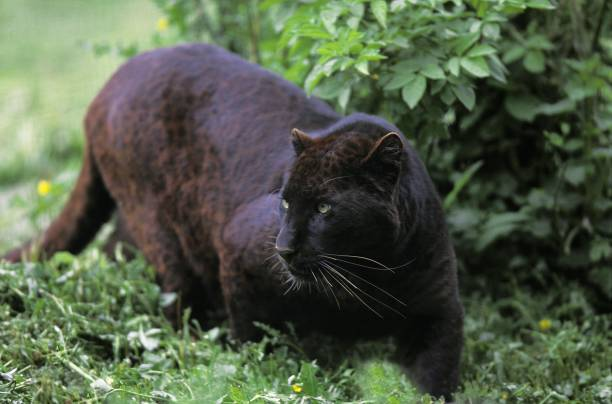panther: (268, 124, 415, 303)
